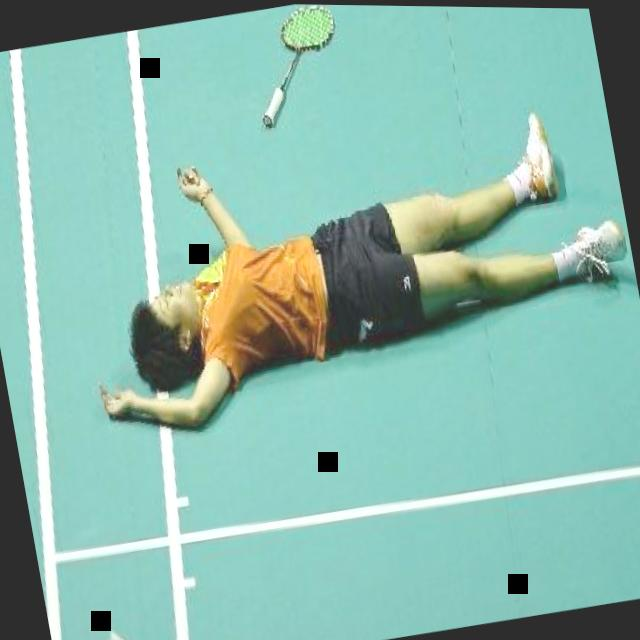Fall-Detected: (57, 73, 640, 448)
